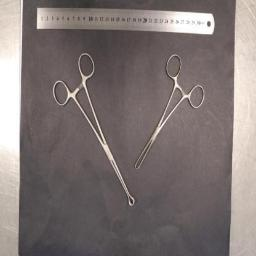Allis Tissue Forceps: (134, 53, 206, 169)
